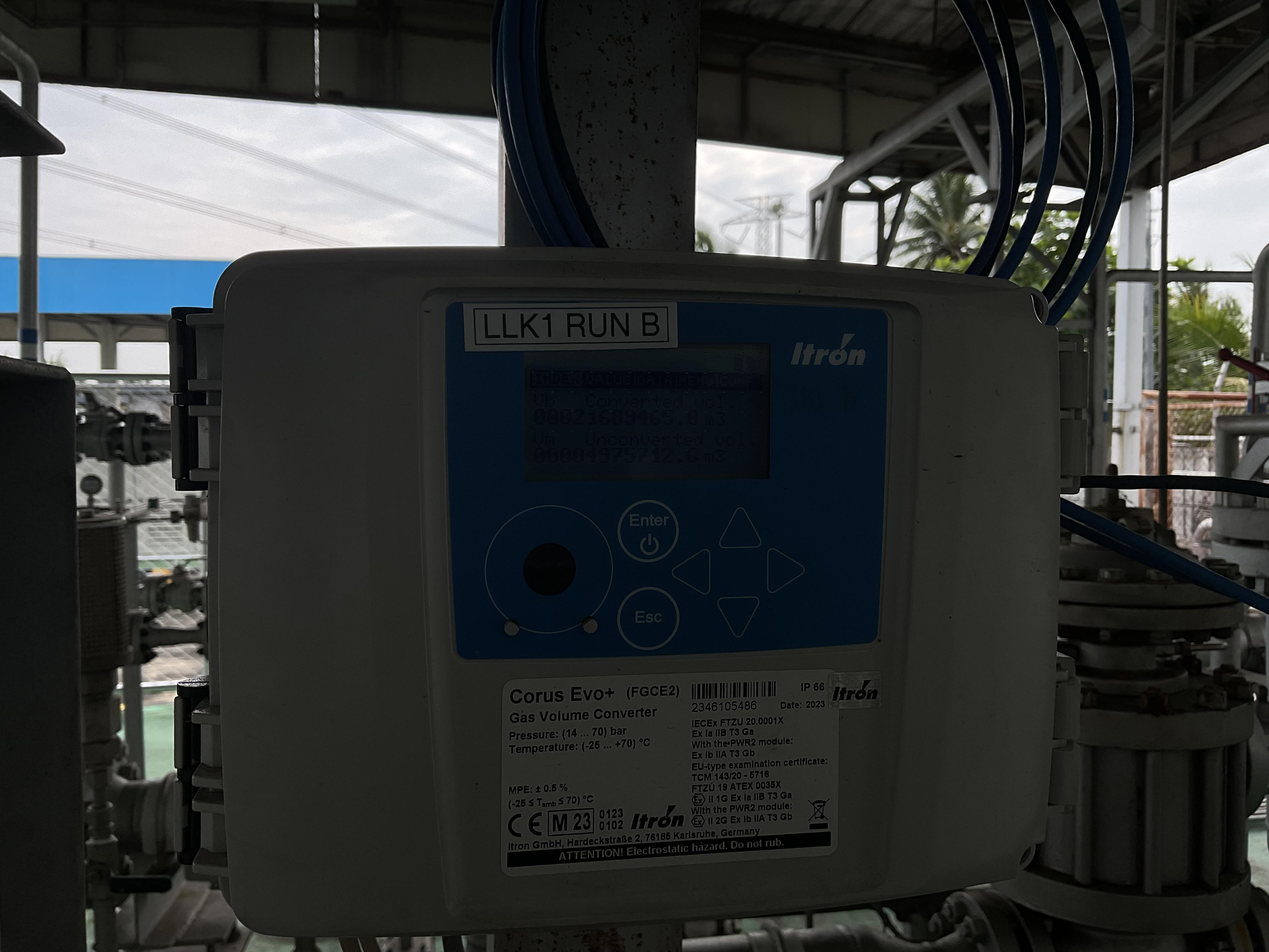digital_screen: (524, 340, 772, 481)
